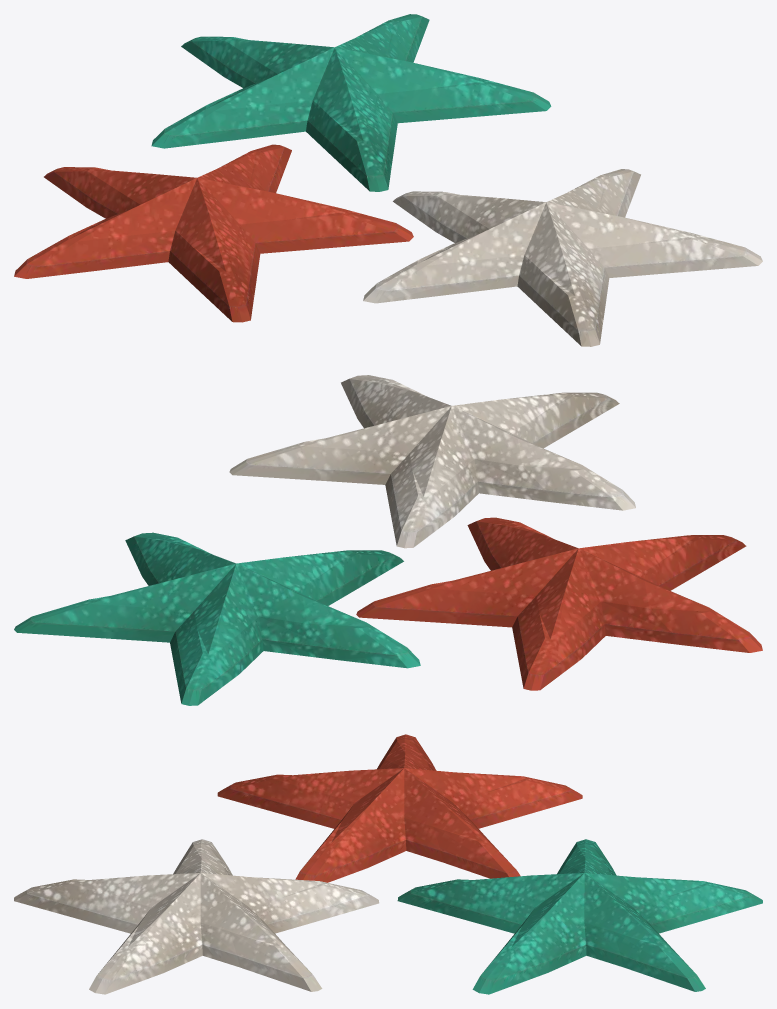
Rendered from 6H-0K9IEr56.glb.
The picture shows the model from 3 angles, top to bottom: view 1: azimuth 30°, elevation 25°; view 2: azimuth 150°, elevation 25°; view 3: azimuth 270°, elevation 25°; orthographic projection. The views are drawn at different scales.
Visible parts, largest first — view 1: Node; view 2: Node; view 3: Node.
Boxes of the visible parts, left/top/right/bottom form: Node: left=14, top=14, right=762, bottom=346; Node: left=14, top=375, right=762, bottom=705; Node: left=14, top=734, right=762, bottom=994.
Bounding box in the file's own units: 11 × 1 × 13.54.
3 materials, 3 textured.
